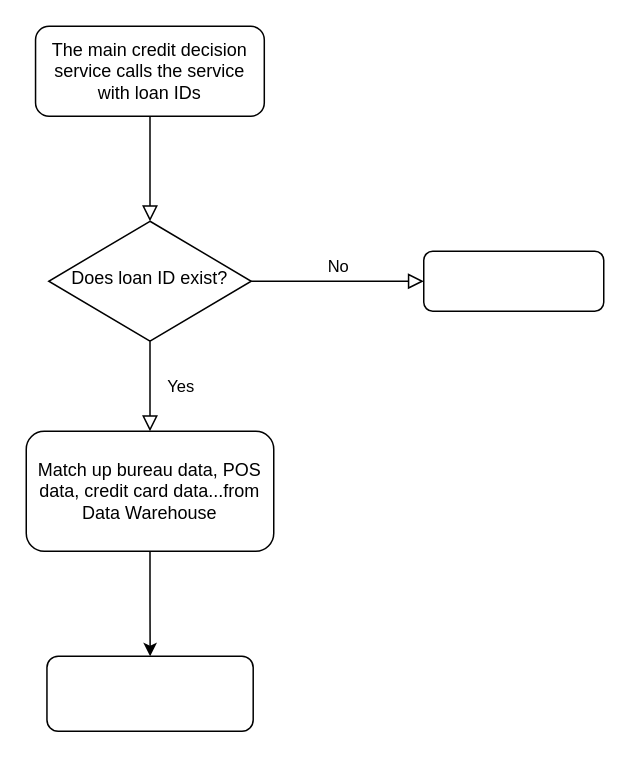
The diagram is 630 pixels wide and 758 high, and some of its shapes have lost their labels. The centre of each missing label's shape, as x and y in pixels:
Return -1: pixel 513 280
Return default probability: pixel 149 693
